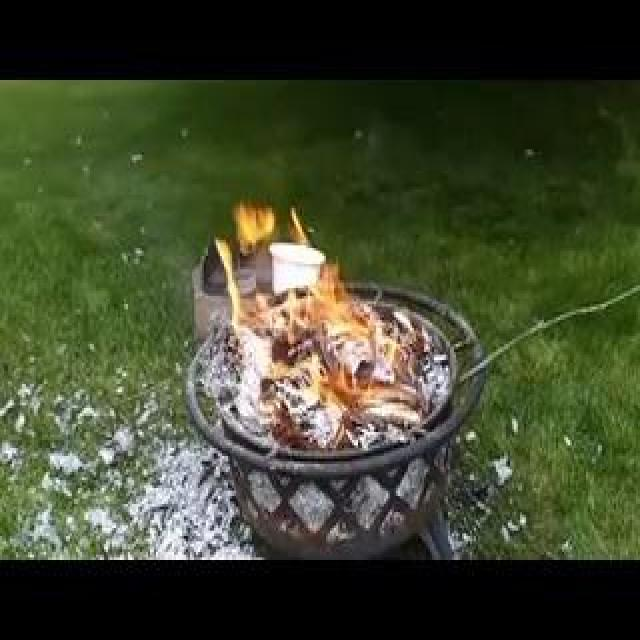Fire: (242, 290, 288, 296)
